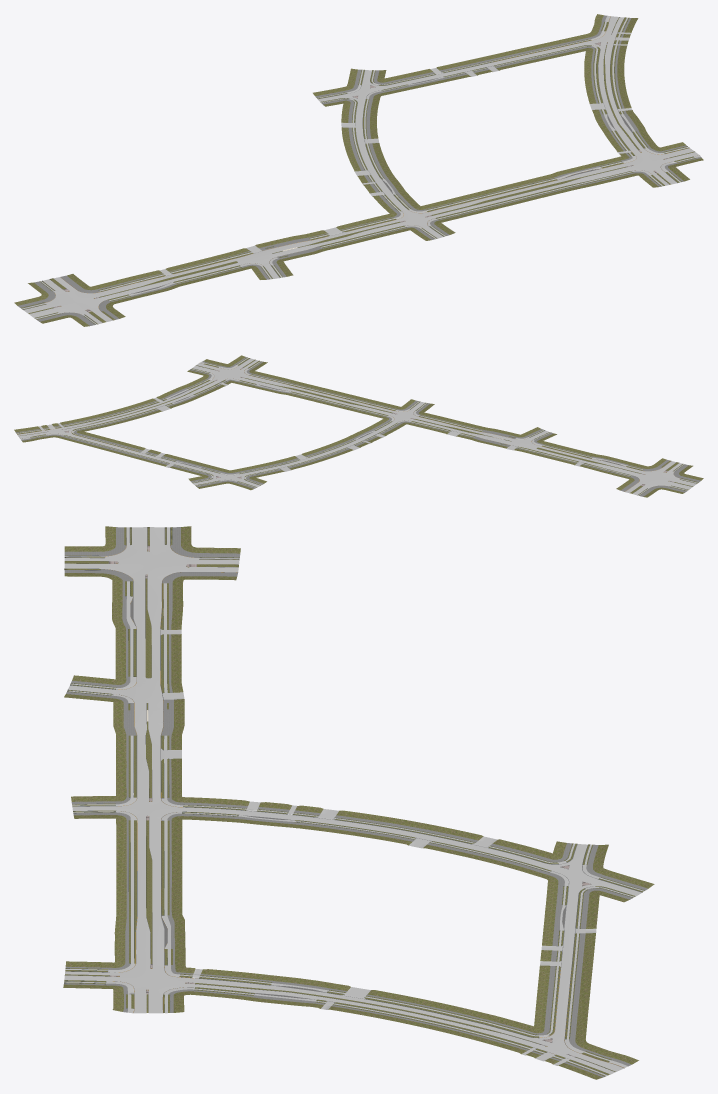
Rendered from XinjiangwanCity.fbx.
The picture shows the model from 3 angles, top to bottom: view 1: azimuth 30°, elevation 25°; view 2: azimuth 150°, elevation 25°; view 3: azimuth 270°, elevation 25°; orthographic projection. The views are drawn at different scales.
Parts seen in each view (by area): view 1: Greenbelt.011, Sidewalk.011, Greenbelt.003, Sidewalk.003, YinhangRoad.003, YinhangRoad.001, JiangwanchengRoad.001, Greenbelt.009, Greenbelt.008, YinhangRoad.002, Sidewalk.009, ZhengheRoad.001 (+10 smaller); view 2: Greenbelt.011, Sidewalk.011, Greenbelt.003, Sidewalk.003, YinhangRoad.003, YinhangRoad.001, JiangwanchengRoad.001, Greenbelt.008, Greenbelt.006, YinhangRoad.002, Sidewalk.008, Sidewalk.009 (+12 smaller); view 3: Greenbelt.011, Sidewalk.011, Greenbelt.003, Sidewalk.003, YinhangRoad.003, YinhangRoad.001, JiangwanchengRoad.001, YinhangRoad.002, Greenbelt.009, Greenbelt.008, Greenbelt.006, ZhengheRoad.001 (+11 smaller).
Boxes of the visible parts, x1=… form: Greenbelt.011: x1=370, y1=48, x2=629, y2=209; Sidewalk.011: x1=364, y1=45, x2=636, y2=212; Greenbelt.003: x1=67, y1=100, x2=396, y2=290; Sidewalk.003: x1=61, y1=98, x2=403, y2=293; YinhangRoad.003: x1=422, y1=162, x2=638, y2=219; YinhangRoad.001: x1=88, y1=251, x2=272, y2=302; JiangwanchengRoad.001: x1=598, y1=45, x2=646, y2=153; Greenbelt.009: x1=377, y1=14, x2=603, y2=82; Greenbelt.008: x1=617, y1=18, x2=685, y2=151; YinhangRoad.002: x1=263, y1=218, x2=408, y2=258; Sidewalk.009: x1=371, y1=15, x2=610, y2=85; ZhengheRoad.001: x1=353, y1=98, x2=412, y2=213; Greenbelt.011: x1=77, y1=380, x2=388, y2=472; Sidewalk.011: x1=71, y1=378, x2=394, y2=475; Greenbelt.003: x1=249, y1=422, x2=634, y2=490; Sidewalk.003: x1=244, y1=420, x2=639, y2=491; YinhangRoad.003: x1=238, y1=374, x2=398, y2=416; YinhangRoad.001: x1=511, y1=438, x2=648, y2=478; JiangwanchengRoad.001: x1=65, y1=379, x2=220, y2=430; Greenbelt.008: x1=14, y1=370, x2=208, y2=432; Greenbelt.006: x1=249, y1=362, x2=415, y2=409; YinhangRoad.002: x1=409, y1=415, x2=518, y2=444; Sidewalk.008: x1=16, y1=368, x2=214, y2=433; Sidewalk.009: x1=20, y1=433, x2=213, y2=482; Greenbelt.011: x1=171, y1=816, x2=558, y2=1033; Sidewalk.011: x1=161, y1=812, x2=568, y2=1037; Greenbelt.003: x1=171, y1=576, x2=566, y2=859; Sidewalk.003: x1=160, y1=572, x2=575, y2=863; YinhangRoad.003: x1=133, y1=817, x2=167, y2=968; YinhangRoad.001: x1=117, y1=575, x2=167, y2=699; JiangwanchengRoad.001: x1=185, y1=978, x2=541, y2=1046; YinhangRoad.002: x1=133, y1=699, x2=163, y2=801; Greenbelt.009: x1=575, y1=890, x2=638, y2=1064; Greenbelt.008: x1=173, y1=991, x2=602, y2=1079; Greenbelt.006: x1=65, y1=815, x2=126, y2=967; ZhengheRoad.001: x1=172, y1=806, x2=562, y2=870.
Bounding box in the file's own units: 125430 × 347 × 56612.
